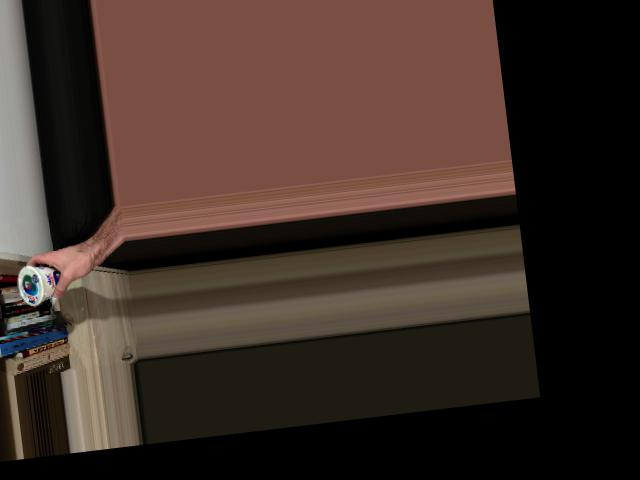cotage: (12, 257, 70, 308)
